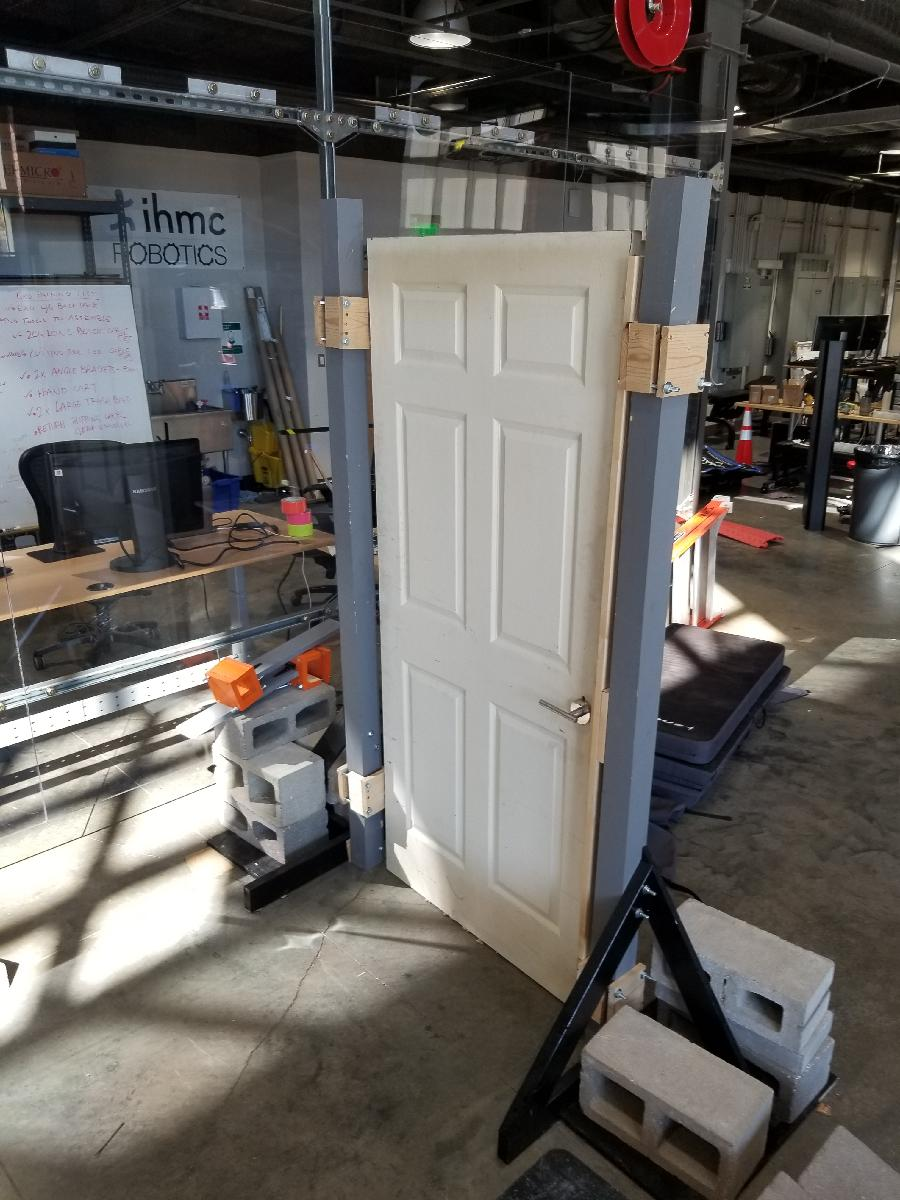door: (363, 229, 645, 1021)
doorHandle: (536, 693, 599, 735)
